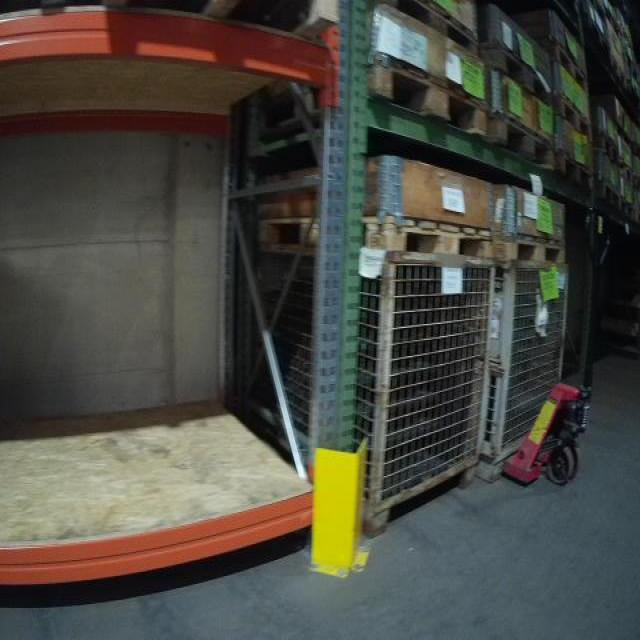pallet: (258, 57, 492, 139), (251, 212, 492, 264), (339, 1, 481, 56), (481, 105, 556, 176), (478, 45, 556, 105), (491, 228, 568, 270), (556, 91, 593, 141), (557, 153, 598, 195), (556, 46, 588, 97)
pallet_truck: (503, 197, 620, 490)
stillage: (233, 224, 495, 546), (476, 242, 588, 494)
